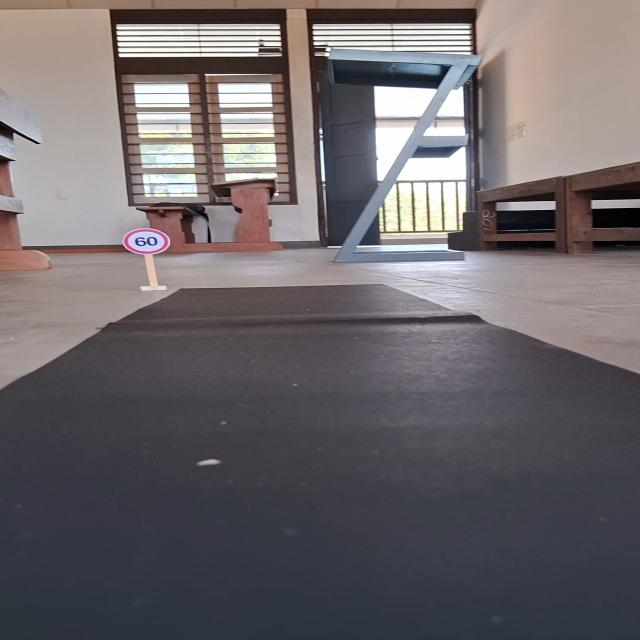Speed60: (121, 228, 172, 255)
